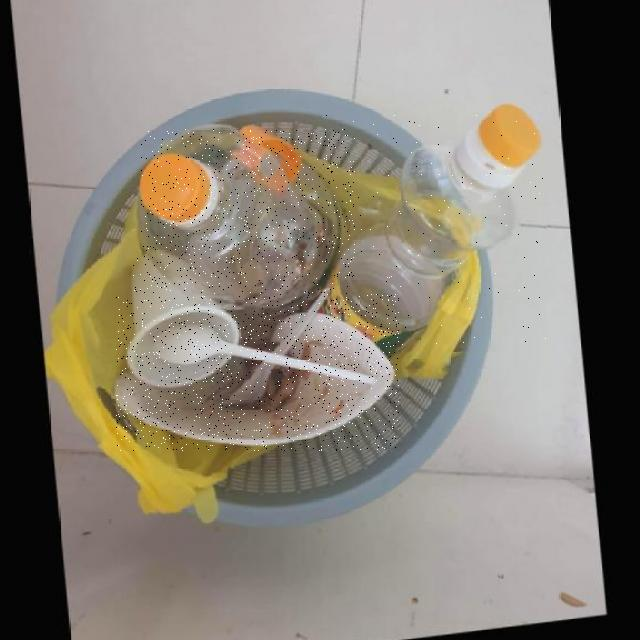biowaste: (247, 371, 315, 417)
paper: (117, 294, 399, 450)
plastic: (323, 115, 547, 351), (141, 129, 355, 323), (131, 257, 243, 391)
